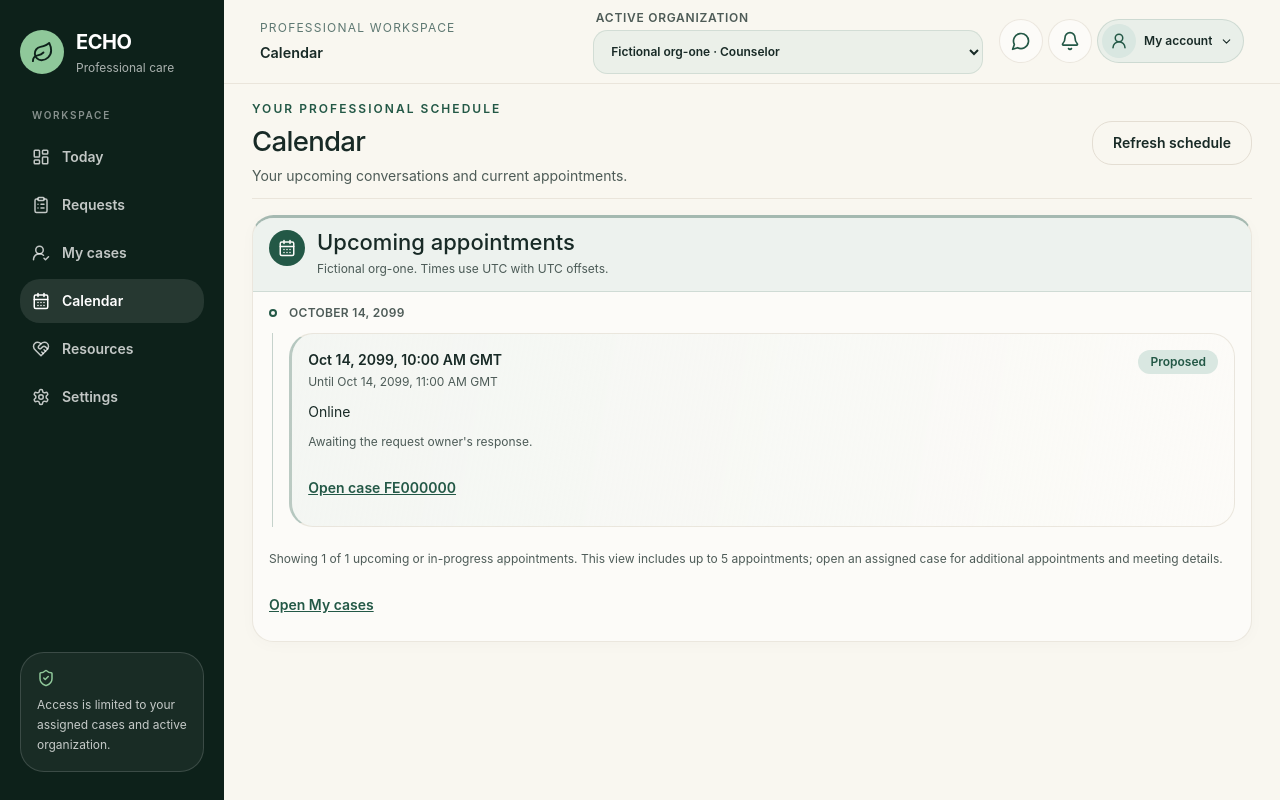
Scenario: dedicated protected professional pages › clears appointments when refresh loses access (401)
Expected: the link "Open case FE000000" is shown, x1=308 y1=480 x2=456 y2=496
Click the button "Refresh schedule".
click(1172, 143)  # box x1=1092 y1=121 x2=1252 y2=165
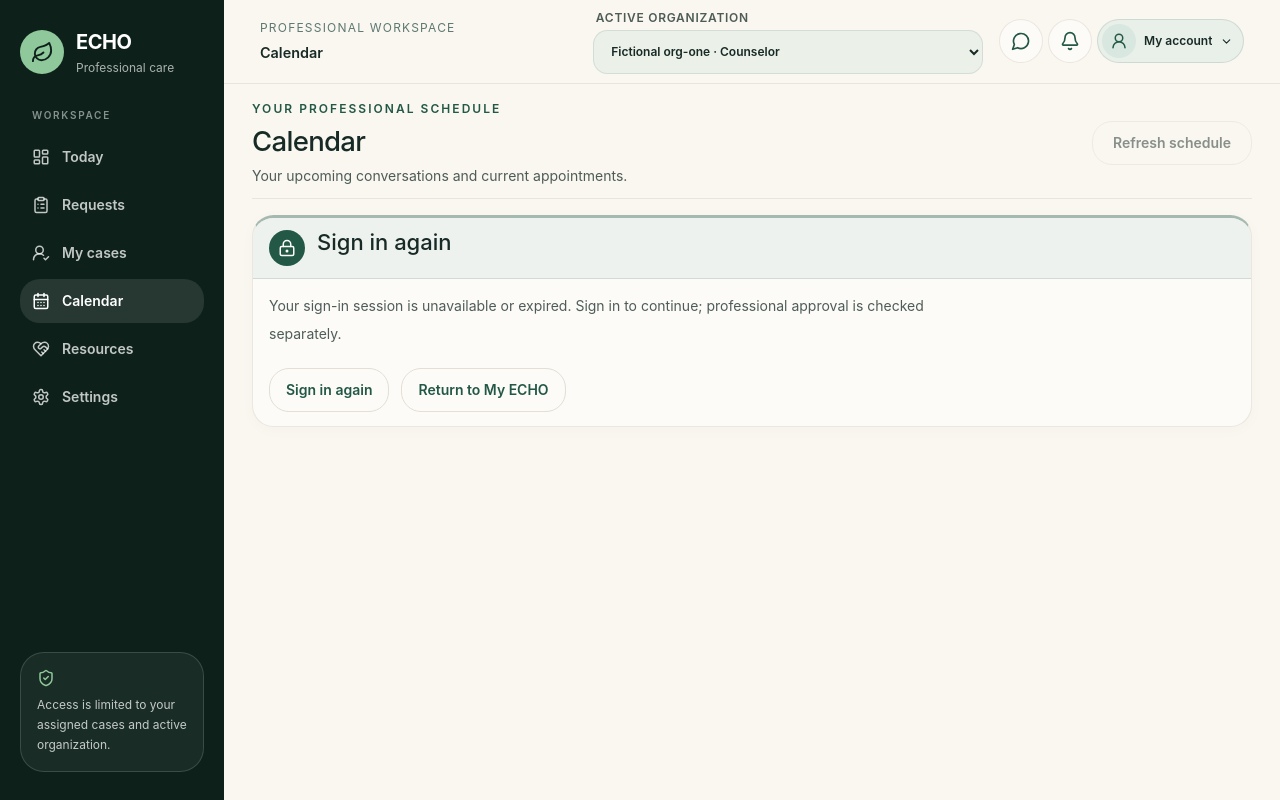
Expected: the message is shown, x1=252 y1=215 x2=1252 y2=427
Expected: the link "Open case " is gone
